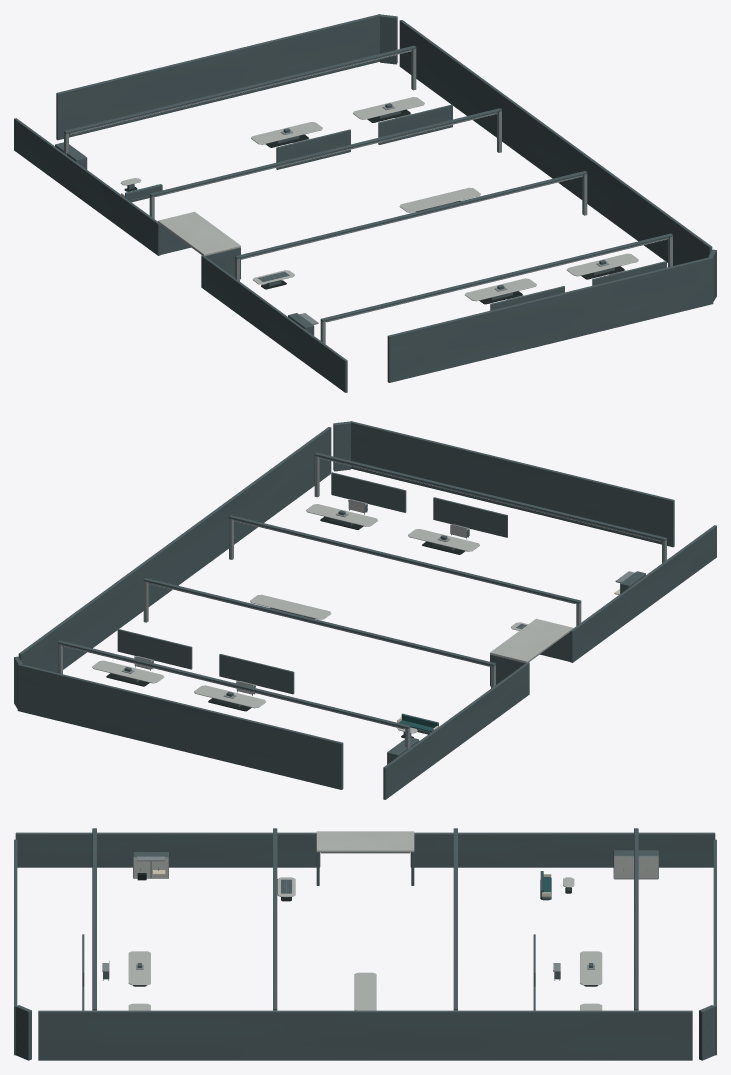
The model's file is SOL_D01_directory_06_source001.glb.
The picture shows the model from 3 angles, top to bottom: view 1: azimuth 30°, elevation 25°; view 2: azimuth 150°, elevation 25°; view 3: azimuth 270°, elevation 25°; orthographic projection. The views are drawn at different scales.
Visible parts, largest first — view 1: A_edge1, A_edge-1, A_back, A_inward_screen1, A_inward_screen-1, A_arrival_lintel, A_working_rib3_beam, A_working_rib1_beam, A_working_rib2_beam, A_working_rib0_beam, A_repair_screen1, A_repair_screen0 (+10 smaller); view 2: A_edge-1, A_edge1, A_back, A_inward_screen-1, A_inward_screen1, A_arrival_lintel, A_repair_screen0, A_repair_screen3, A_repair_screen1, A_repair_screen2, A_working_rib0_beam, A_working_rib2_beam (+12 smaller); view 3: A_back, A_inward_screen1, A_inward_screen-1, A_arrival_lintel, A_working_rib0_beam, A_working_rib3_beam, A_working_rib1_beam, A_working_rib2_beam, A_tool_return_top, A_folded_return-1, A_folded_return1, A_edge-1 (+5 smaller).
Part boxes in pixels (x1,y1,x2,y2): A_edge1: (387,257,713,382); A_edge-1: (56,14,380,140); A_back: (399,20,712,265); A_inward_screen1: (201,255,347,392); A_inward_screen-1: (14,118,160,255); A_arrival_lintel: (158,211,240,256); A_working_rib3_beam: (320,233,672,321); A_working_rib1_beam: (149,108,501,196); A_working_rib2_beam: (235,171,587,259); A_working_rib0_beam: (64,45,416,133); A_repair_screen1: (378,104,452,144); A_repair_screen0: (276,129,350,169); A_edge-1: (17,664,343,789); A_edge1: (350,421,674,547); A_back: (18,427,331,672); A_inward_screen-1: (383,662,529,799); A_inward_screen1: (570,525,716,662); A_arrival_lintel: (490,618,572,663); A_repair_screen0: (219,654,294,694); A_repair_screen3: (331,472,406,512); A_repair_screen1: (117,629,192,669); A_repair_screen2: (433,497,507,537); A_working_rib0_beam: (58,640,410,728); A_working_rib2_beam: (229,515,581,603); A_back: (38,1010,692,1060); A_inward_screen1: (15,832,320,867); A_inward_screen-1: (410,832,715,867); A_arrival_lintel: (316,831,414,852); A_working_rib0_beam: (634,828,638,1010); A_working_rib3_beam: (92,828,96,1010); A_working_rib1_beam: (453,828,457,1010); A_working_rib2_beam: (273,828,277,1010); A_tool_return_top: (354,972,376,1010); A_folded_return-1: (699,1005,715,1060); A_folded_return1: (15,1005,31,1060); A_edge-1: (713,839,716,1055).
Size of the model in its own units: 40.79 by 4.8 by 62.3.
24 materials, 24 textured.
